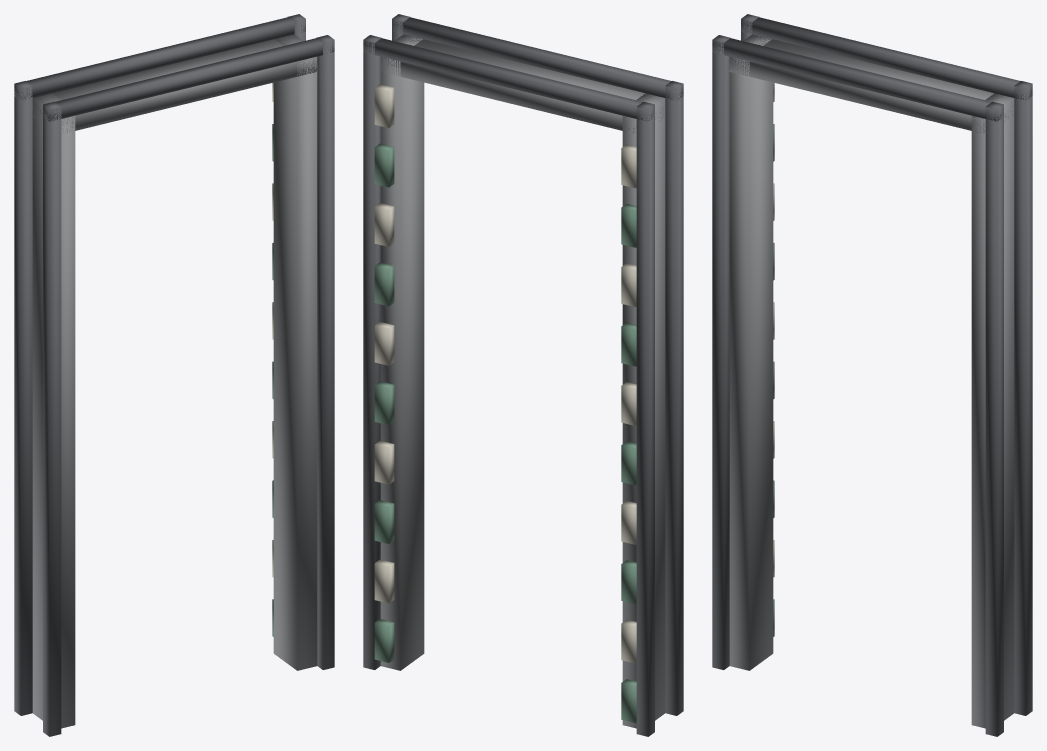
Rendered from doorway_tile_return_w86_h220_d16.glb.
The picture shows the model from 3 angles, left to right: view 1: azimuth 30°, elevation 25°; view 2: azimuth 150°, elevation 25°; view 3: azimuth 330°, elevation 25°; orthographic projection.
Parts seen in each view (by area): view 1: world; view 2: world; view 3: world.
Part boxes in pixels (bbox=[...]): world: bbox=[14, 14, 334, 736]; world: bbox=[363, 14, 683, 736]; world: bbox=[712, 14, 1032, 736].
Bounding box in the file's own units: 1.1 × 2.32 × 0.2407.
